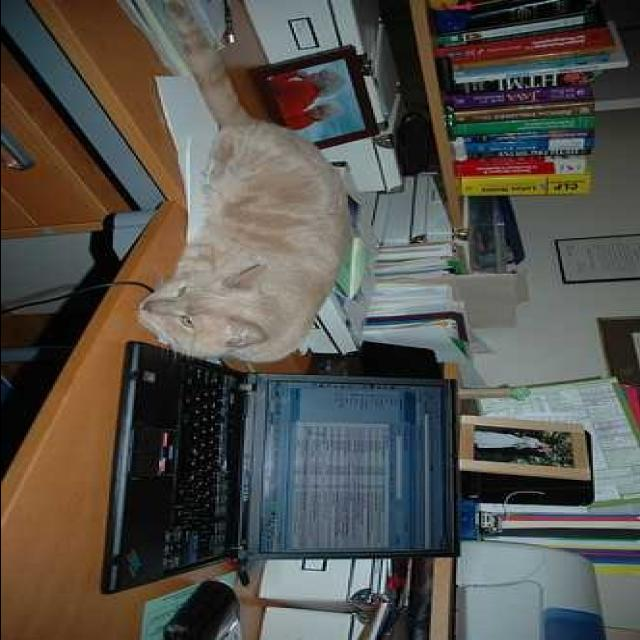laptop: (119, 350, 446, 574)
